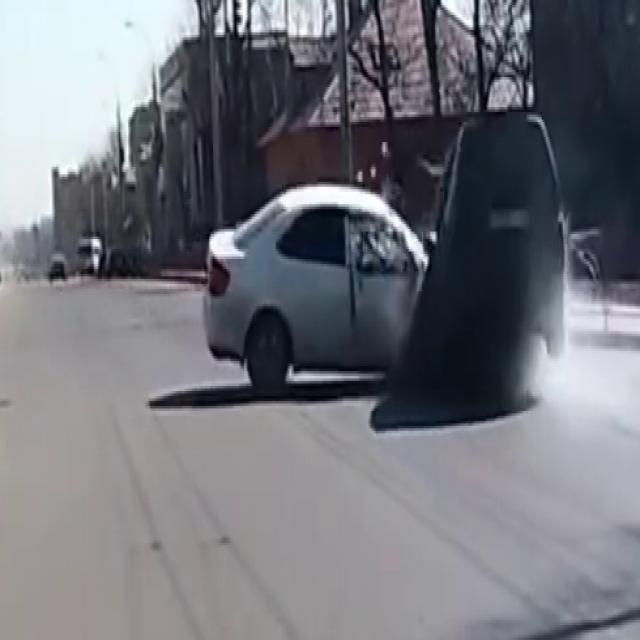accident: (208, 140, 580, 404)
